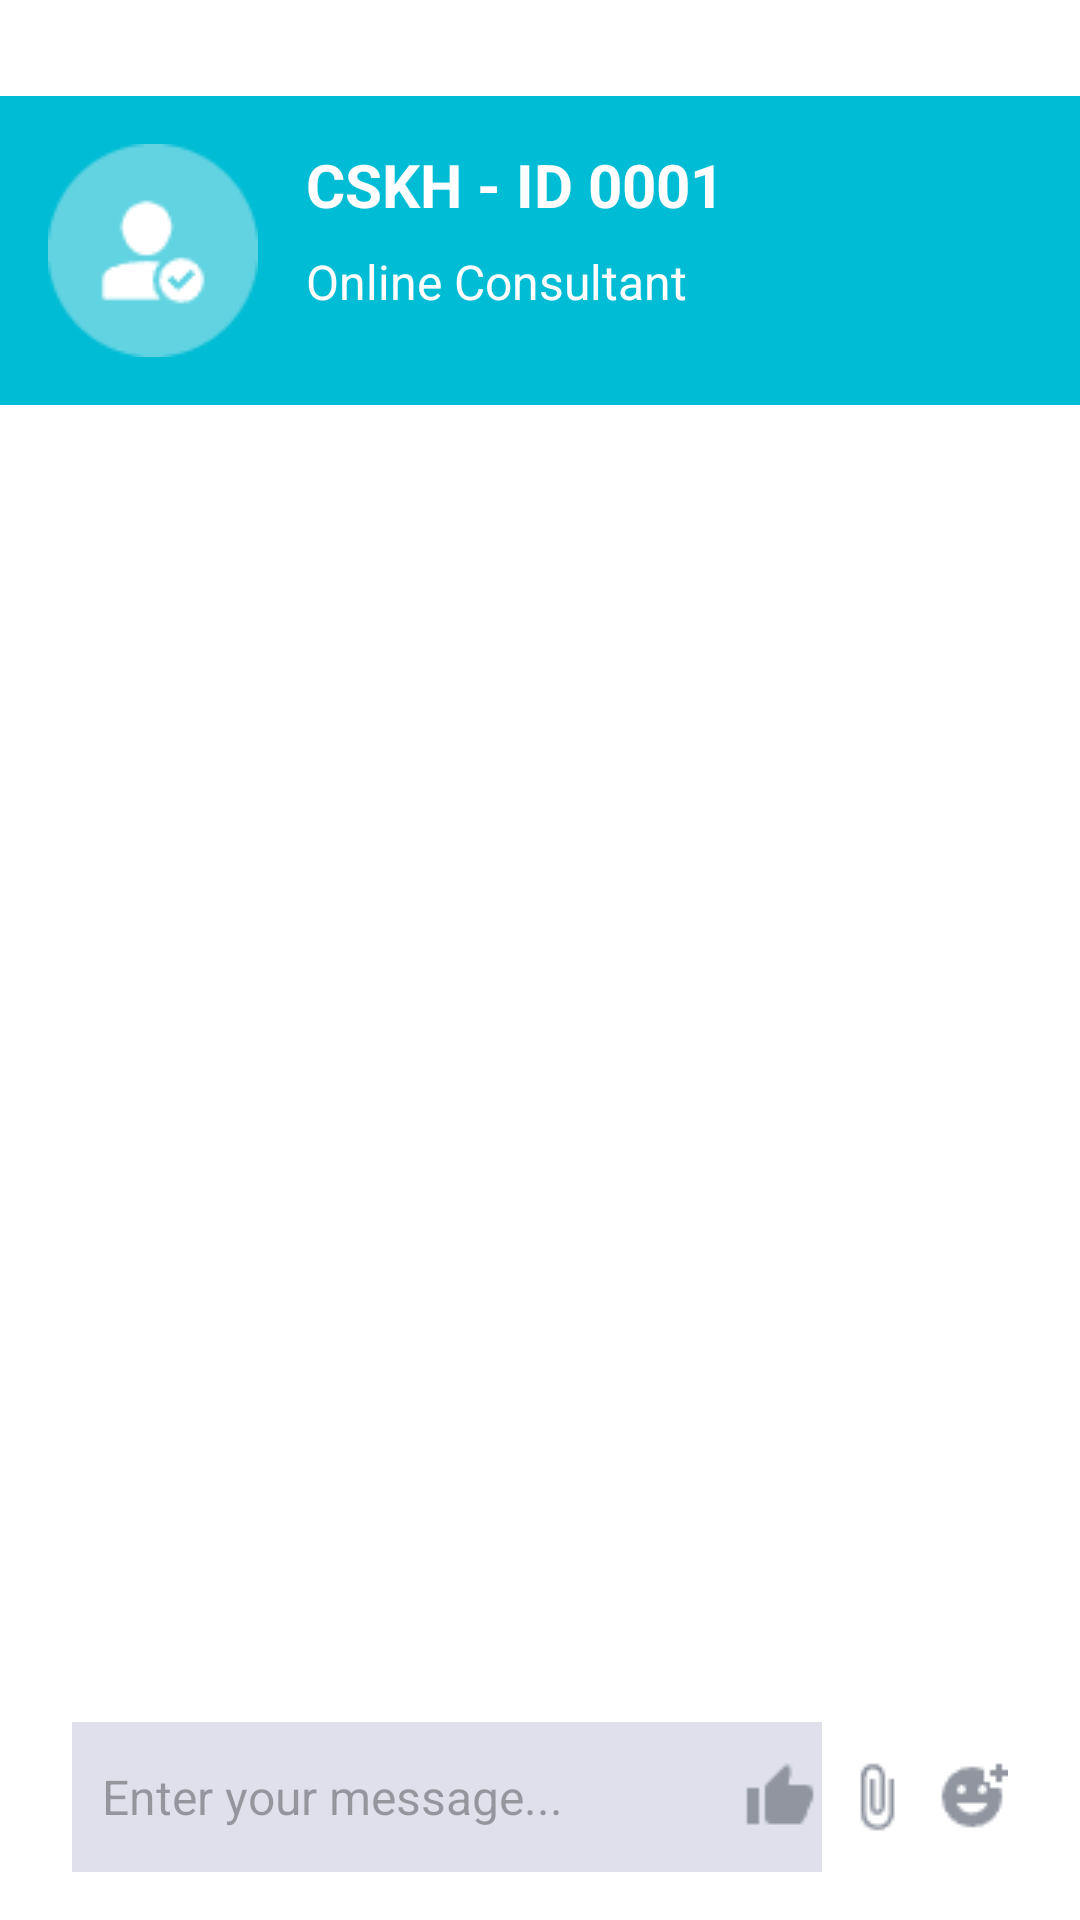

Screen size 1080 × 1920. Icon name, then its box in pixels as (x1, y1, x2, y2):
attach: (860, 1763, 895, 1831)
like: (746, 1764, 814, 1825)
reaction: (941, 1763, 1008, 1828)
